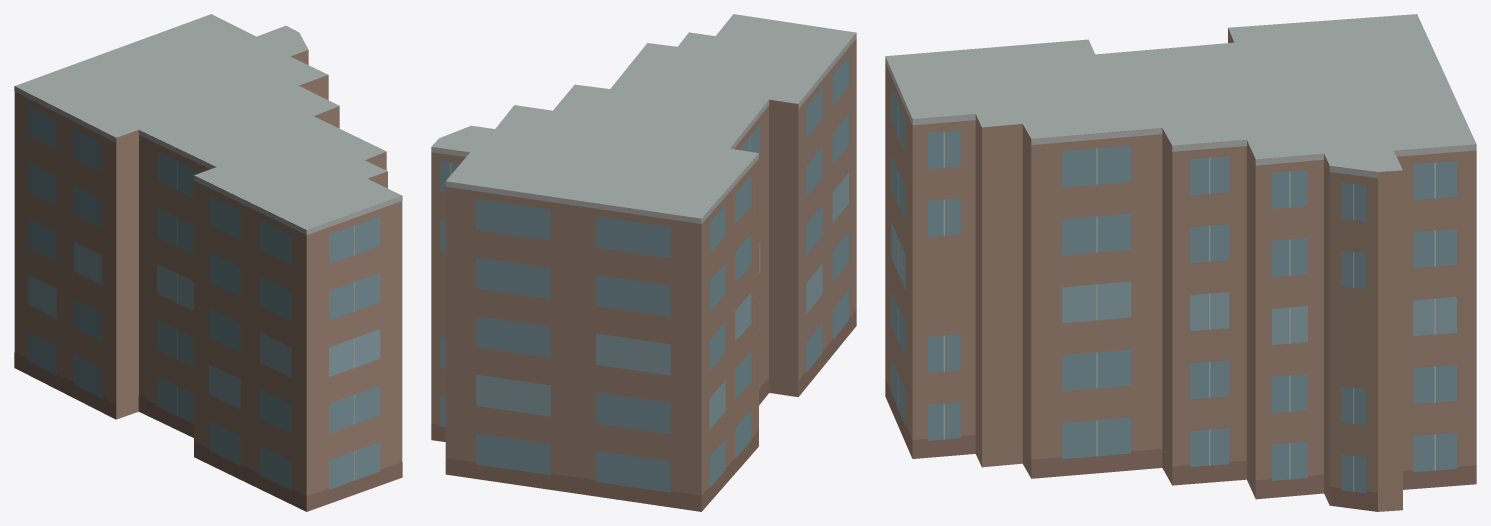
File: survey-upis-32495258.glb
The picture shows the model from 3 angles, left to right: view 1: azimuth 30°, elevation 25°; view 2: azimuth 150°, elevation 25°; view 3: azimuth 270°, elevation 25°; orthographic projection. The views are drawn at different scales.
Visible parts, largest first — view 1: survey-upis-32495258.tmp; view 2: survey-upis-32495258.tmp; view 3: survey-upis-32495258.tmp.
Part boxes in pixels (x1,y1,x2,y2): survey-upis-32495258.tmp: [14, 14, 402, 511]; survey-upis-32495258.tmp: [431, 14, 856, 511]; survey-upis-32495258.tmp: [885, 14, 1476, 511].
Bounding box in the file's own units: 13.27 × 13.3 × 20.98.
